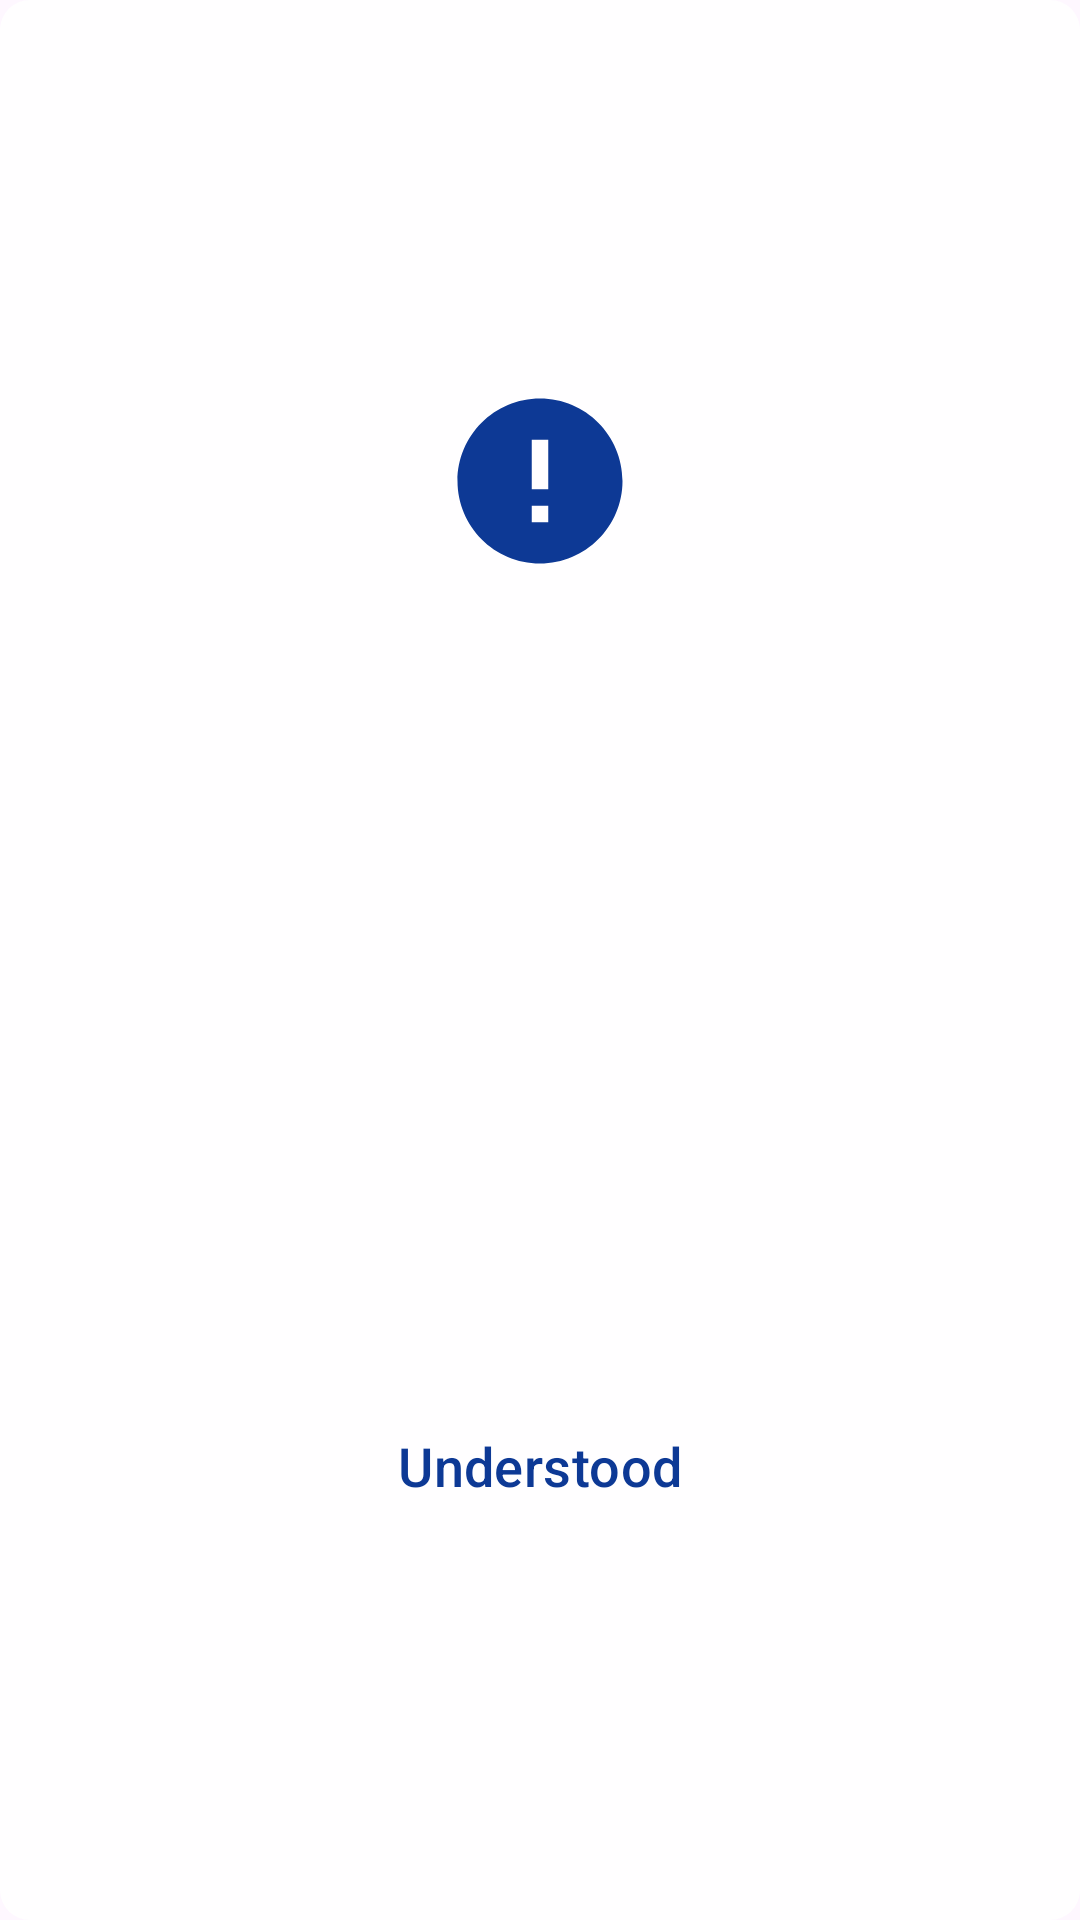

Named icons in this screenshot (1080 × 1920) and their bounding boxes, (x1, y1, x2, y2):
Alert: (457, 398, 623, 564)
